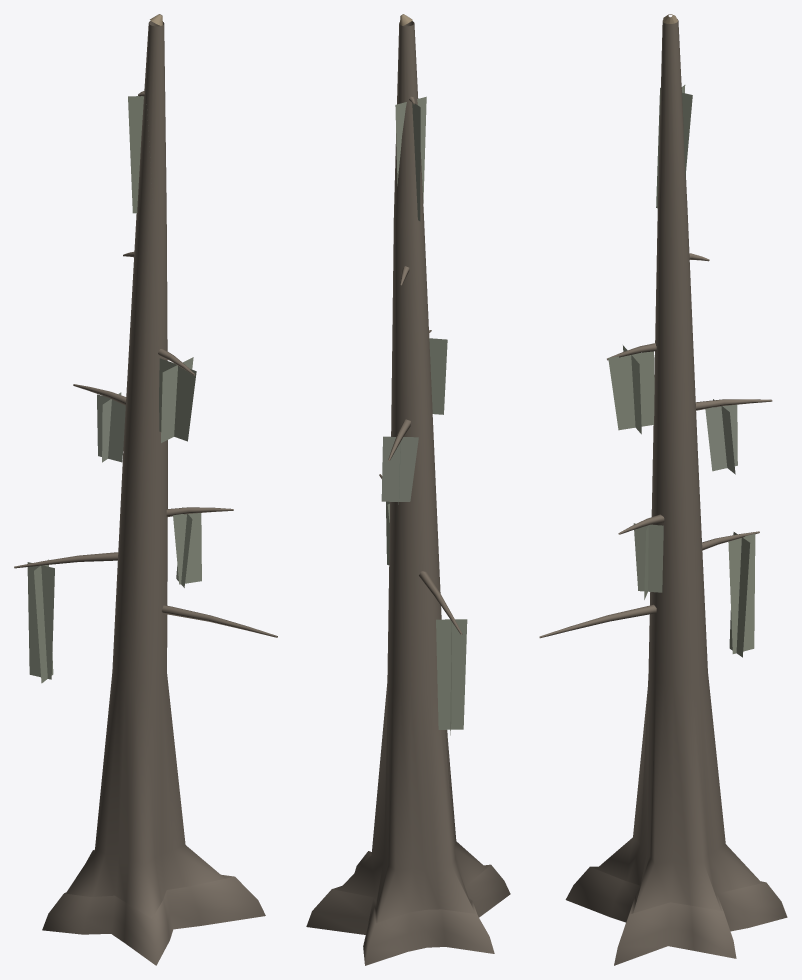
File: snag_moss.glb
The picture shows the model from 3 angles, left to right: view 1: azimuth 30°, elevation 25°; view 2: azimuth 150°, elevation 25°; view 3: azimuth 270°, elevation 25°; orthographic projection.
Parts seen in each view (by area): view 1: snag_moss; view 2: snag_moss; view 3: snag_moss.
Boxes of the visible parts, bbox=[...] form: snag_moss: bbox=[14, 14, 277, 965]; snag_moss: bbox=[306, 14, 510, 965]; snag_moss: bbox=[539, 14, 787, 965].
Bounding box in the file's own units: 2.12 × 9.99 × 2.46.
